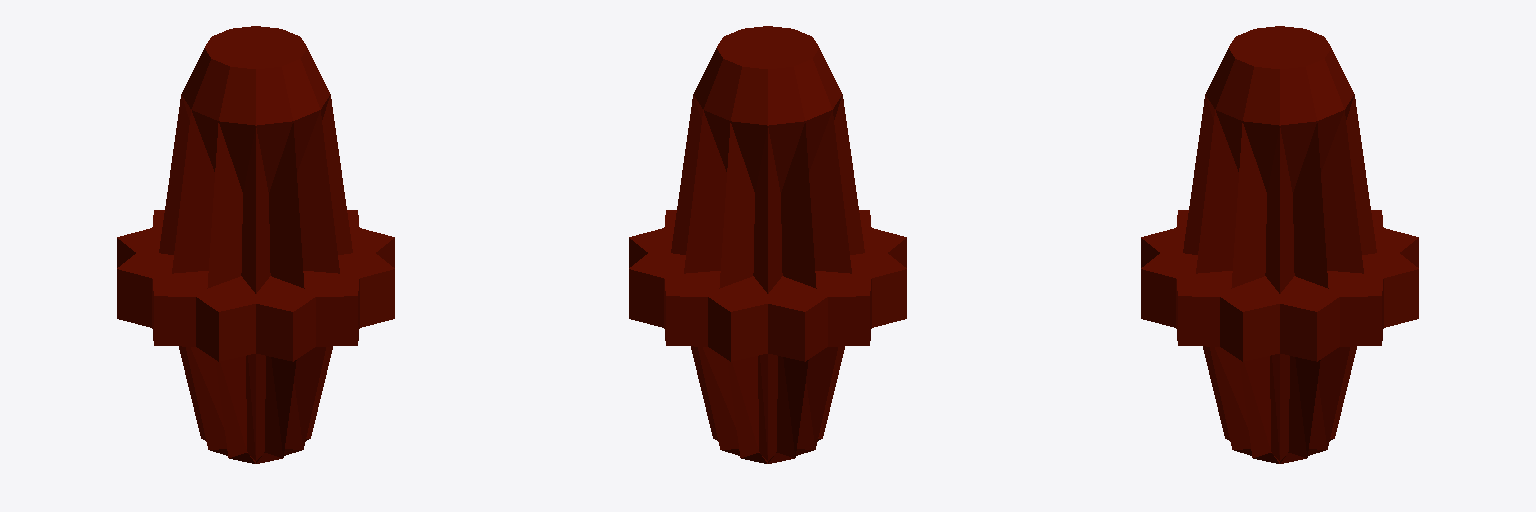
The model's file is 3Bit.obj.
3 renders of one model, left to right at view 1: azimuth 30°, elevation 25°; view 2: azimuth 150°, elevation 25°; view 3: azimuth 270°, elevation 25°, orthographic.
Parts seen in each view (by area): view 1: 3Bit; view 2: 3Bit; view 3: 3Bit.
Boxes of the visible parts, box(x1,y1,x2,y2) form: 3Bit: box(117, 26, 394, 463); 3Bit: box(629, 26, 906, 463); 3Bit: box(1141, 26, 1418, 463).
Bounding box in the file's own units: 1.52 × 2.51 × 1.52.